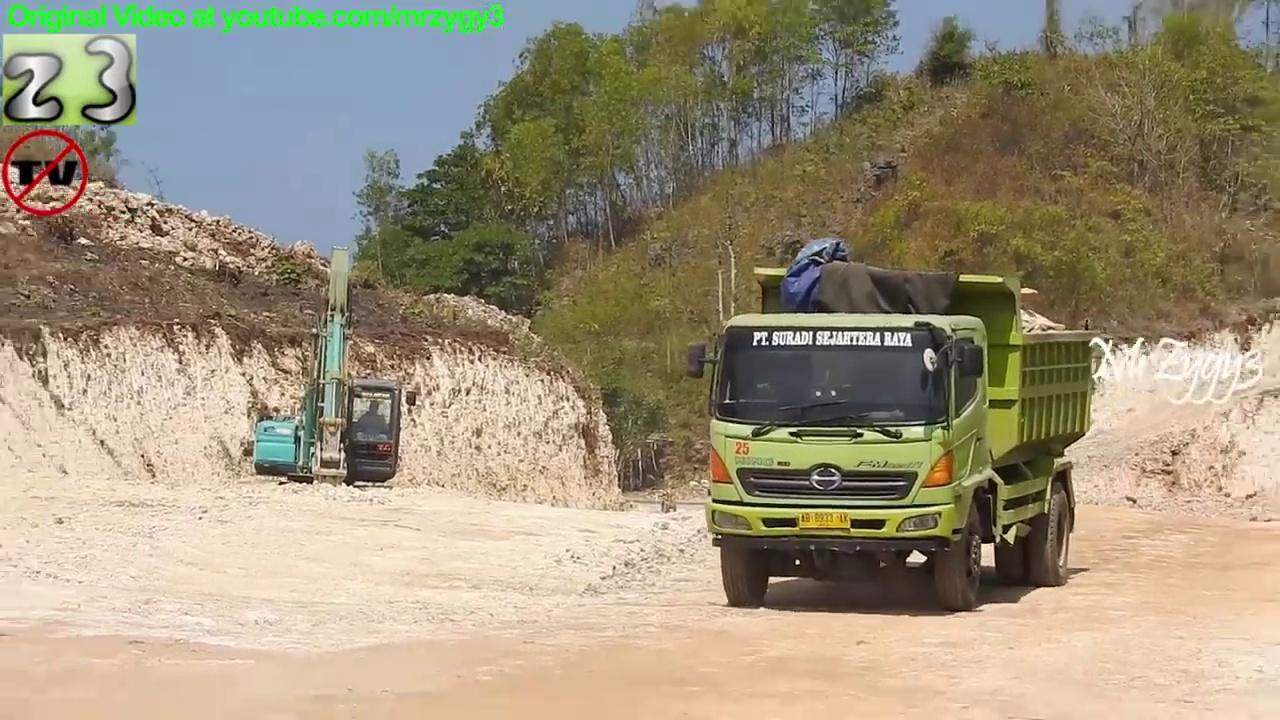excavator: (246, 241, 427, 527)
truck: (677, 255, 1102, 617)
